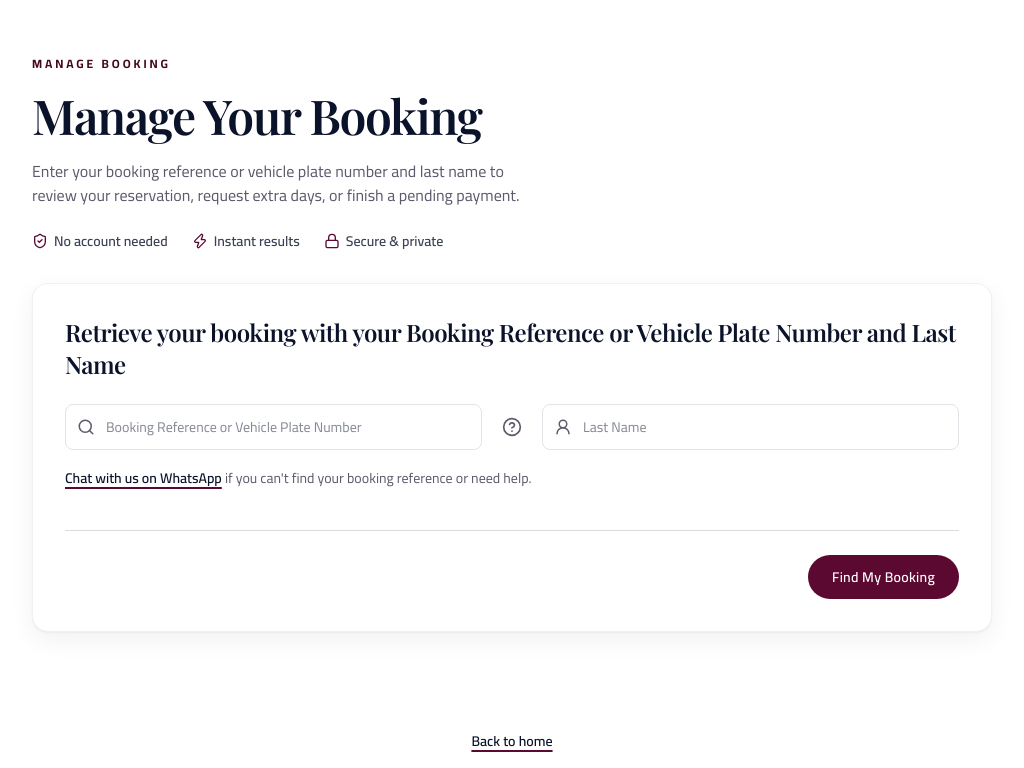
Test case: ManageBookingPage › shows the same generic not-found message, never the booking, when the last name does not match
Type "BLS-ABCDEF12" into the field with placeholder "Booking Reference or Vehicle Plate Number" at (274, 427), box x1=65 y1=404 x2=482 y2=450
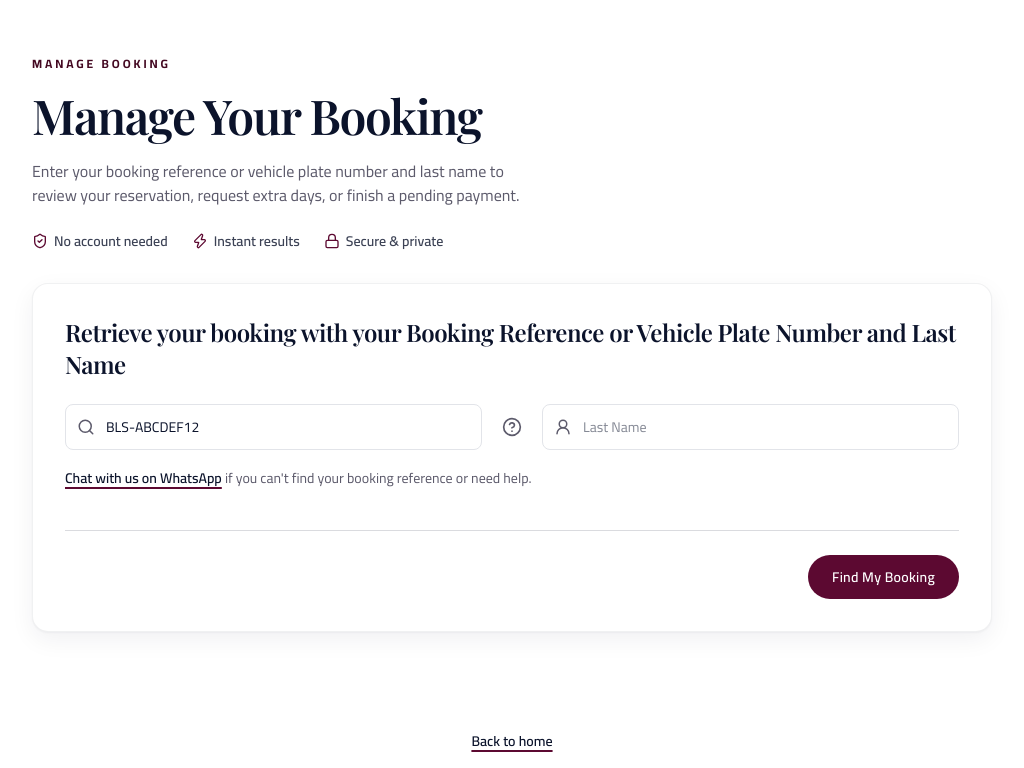
Type "WrongName" into the field with placeholder "Last Name" at (750, 427), box x1=542 y1=404 x2=959 y2=450
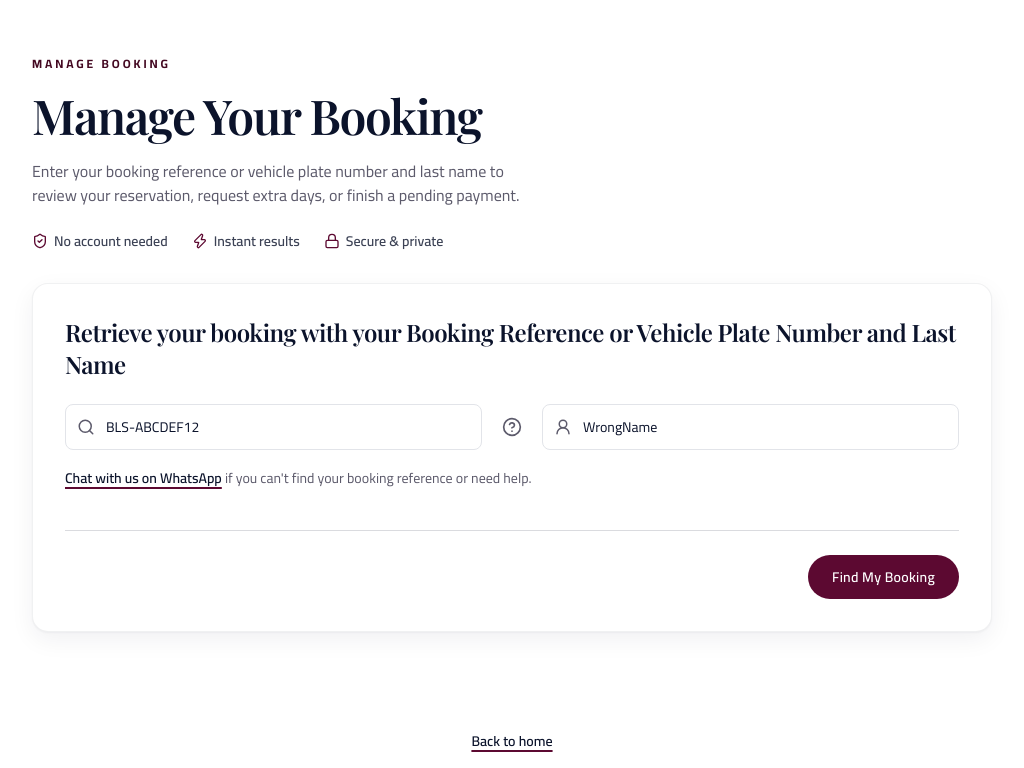
Click the button "Find My Booking" at (884, 577), box x1=808 y1=555 x2=959 y2=599
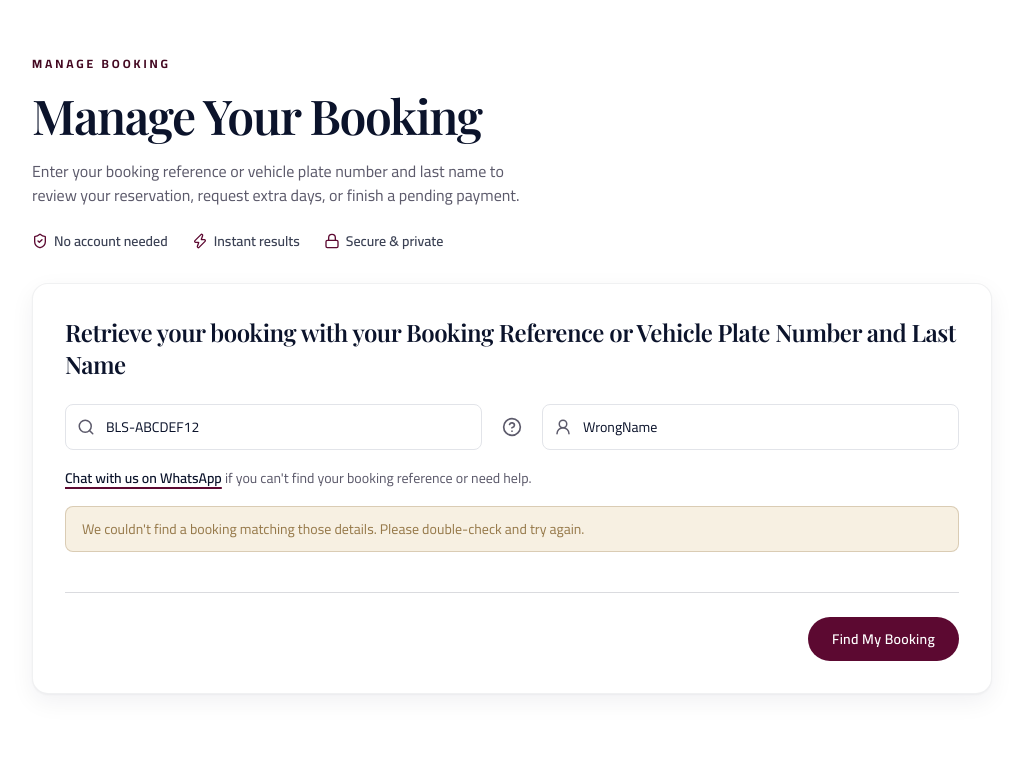
Expected: the text "couldn't find a booking" is shown, x1=82 y1=516 x2=584 y2=542
